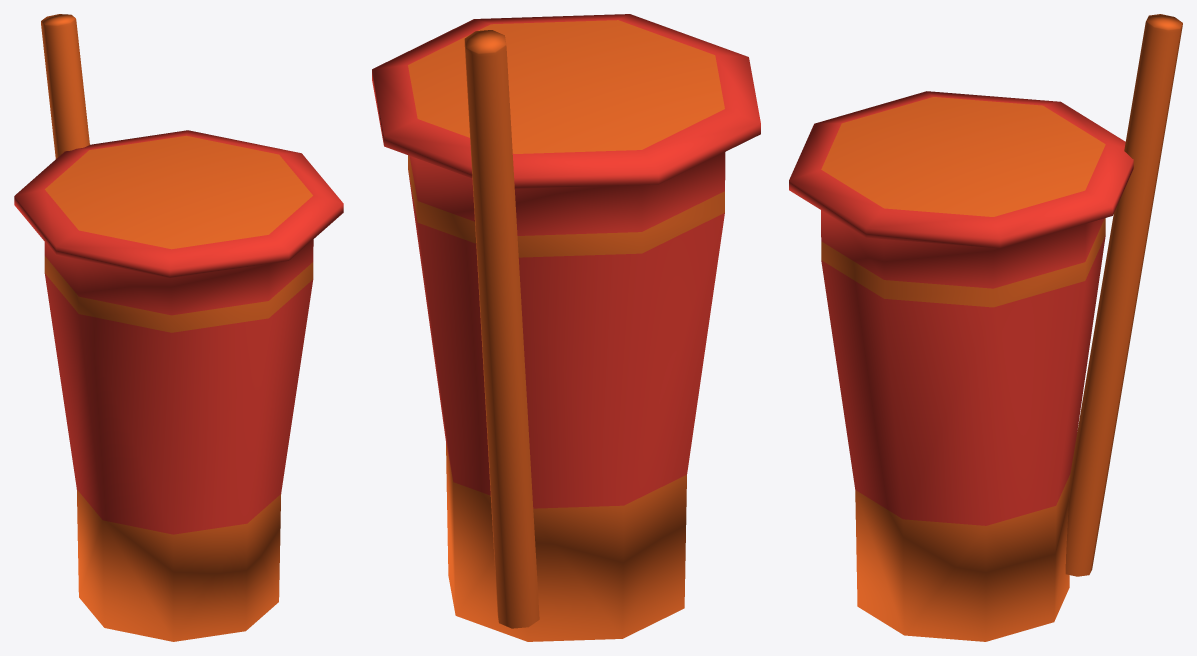
Rendered from SM_Drink_2.fbx.
3 renders of one model, left to right at view 1: azimuth 30°, elevation 25°; view 2: azimuth 150°, elevation 25°; view 3: azimuth 270°, elevation 25°, orthographic. The views are drawn at different scales.
Visible parts, largest first — view 1: SM_Drink_2; view 2: SM_Drink_2; view 3: SM_Drink_2.
Part boxes in pixels (box(x1,y1,x2,y2)): SM_Drink_2: box(14, 14, 343, 641); SM_Drink_2: box(372, 14, 760, 641); SM_Drink_2: box(789, 14, 1182, 641).
Bounding box in the file's own units: 11.86 × 13.39 × 21.13.
